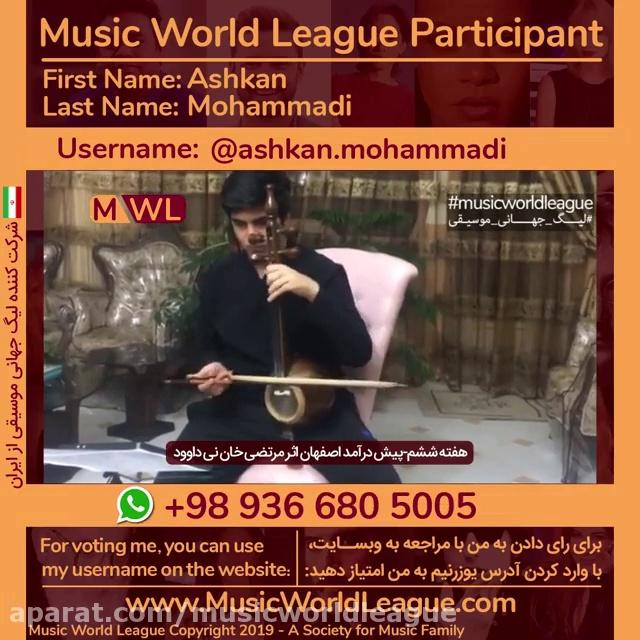Kamanche: (260, 187, 354, 433)
